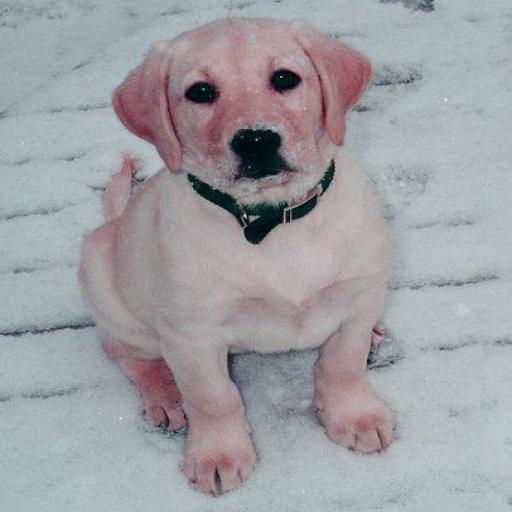dog_face: (117, 17, 365, 180)
